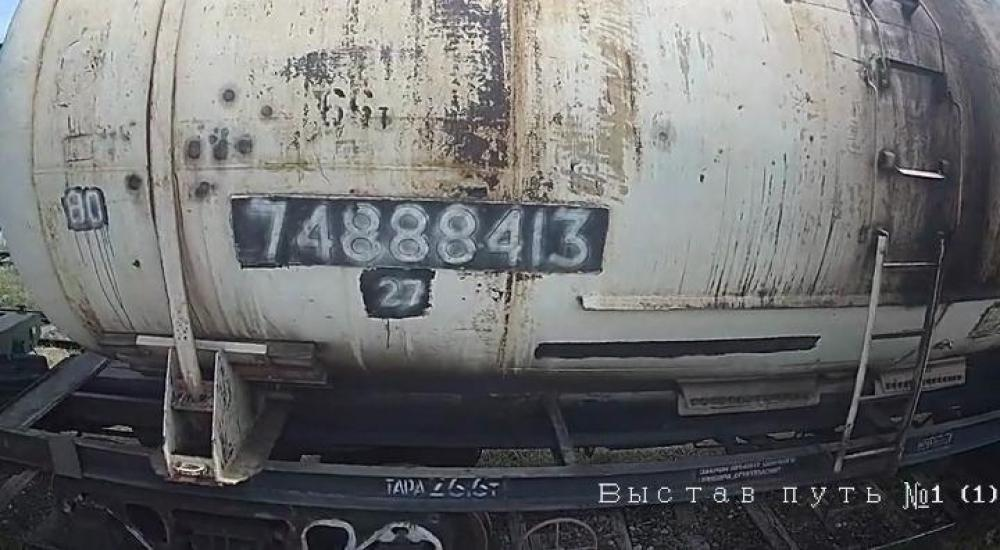Wagon-number: (245, 196, 594, 272)
